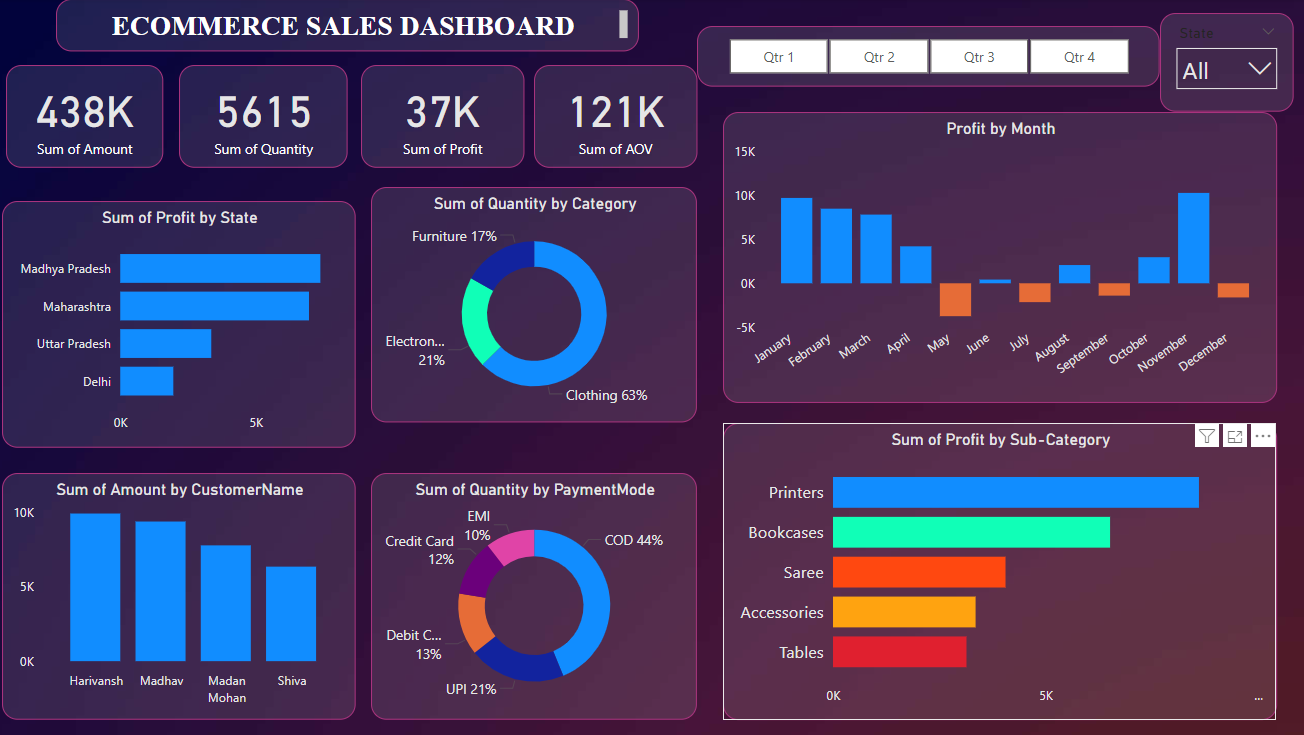

The page's visual inventory and layout, read from the dashboard file:
{"tool":"powerbi","page":{"name":"Page 1","canvas":[1280,720],"ordinal":0},"visuals":[{"type":"columnChart","title":"Profit by Month","fields":{"Category":["Orders.Order Date.Variation.Date Hierarchy.Month"],"Y":["Sum(Details.Profit)"]},"box":[708.7,109.6,538.6,283.5],"z":1000},{"type":"barChart","fields":{"Category":["Details.Sub-Category"],"Y":["Sum(Details.Profit)"]},"box":[708.7,412,538.6,289.1],"z":2000},{"type":"donutChart","fields":{"Category":["Details.Category"],"Y":["Sum(Details.Quantity)"]},"box":[366.6,183.3,317.5,228.7],"z":3000},{"type":"donutChart","fields":{"Y":["Sum(Details.Quantity)"],"Category":["Details.PaymentMode"]},"box":[366.6,461.1,317.5,240],"z":4000},{"type":"card","fields":{"Values":["Sum(Details.Amount)"]},"box":[11.3,64.3,153.1,100.2],"z":5000},{"type":"card","fields":{"Values":["Sum(Details.Quantity)"]},"box":[179.5,64.3,164.4,100.2],"z":6000},{"type":"card","fields":{"Values":["Sum(Details.Profit)"]},"box":[357.2,64.3,158.7,100.2],"z":7000},{"type":"card","fields":{"Values":["Sum(Details.AOV)"]},"box":[525.4,64.3,158.7,100.2],"z":8000},{"type":"barChart","fields":{"Category":["Orders.State"],"Y":["Sum(Details.Profit)"]},"box":[7.6,196.5,343.9,240],"z":9000},{"type":"columnChart","fields":{"Category":["Orders.CustomerName"],"Y":["Sum(Details.Amount)"]},"box":[8,461,344,240],"z":10000},{"type":"textbox","box":[60.5,0,566.9,51],"z":10001},{"type":"slicer","fields":{"Values":["Orders.Order Date.Variation.Date Hierarchy.Quarter"]},"box":[684.1,26.5,449.8,58.6],"z":10002},{"type":"slicer","fields":{"Values":["Orders.State"]},"box":[1133.9,13.2,130.4,96.4],"z":10003}]}

Visuals, with their boxes in screenshot pixels (x1, y1, x2, y2), scaled from the page's 1280x720 canvas onto the 1304x735 screenshot:
"Profit by Month" columnChart: locate(722, 112, 1271, 401)
barChart - Details.Sub-Category x Sum(Details.Profit): locate(722, 421, 1271, 716)
donutChart - Details.Category x Sum(Details.Quantity): locate(373, 187, 697, 421)
donutChart - Sum(Details.Quantity) x Details.PaymentMode: locate(373, 471, 697, 716)
card - Sum(Details.Amount): locate(12, 66, 167, 168)
card - Sum(Details.Quantity): locate(183, 66, 350, 168)
card - Sum(Details.Profit): locate(364, 66, 526, 168)
card - Sum(Details.AOV): locate(535, 66, 697, 168)
barChart - Orders.State x Sum(Details.Profit): locate(8, 201, 358, 446)
columnChart - Orders.CustomerName x Sum(Details.Amount): locate(8, 471, 359, 716)
textbox: locate(62, 0, 639, 52)
slicer - Orders.Order Date.Variation.Date Hierarchy.Quarter: locate(697, 27, 1155, 87)
slicer - Orders.State: locate(1155, 13, 1288, 112)
